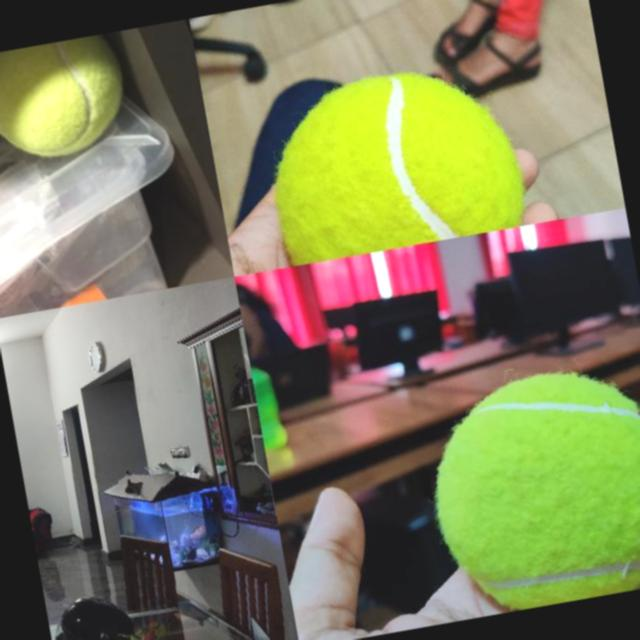tennis-ball: (415, 355, 640, 620), (260, 54, 528, 266), (0, 31, 133, 167)
